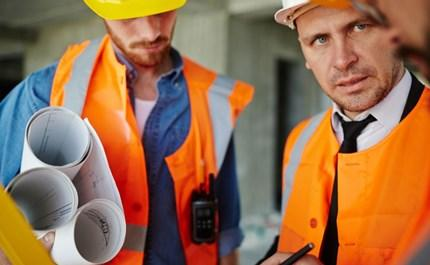helmet: (274, 1, 379, 29), (85, 1, 191, 21)
